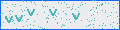v: (4, 15, 14, 24), (26, 8, 36, 17), (48, 8, 58, 17), (71, 12, 81, 21), (15, 14, 24, 23)
